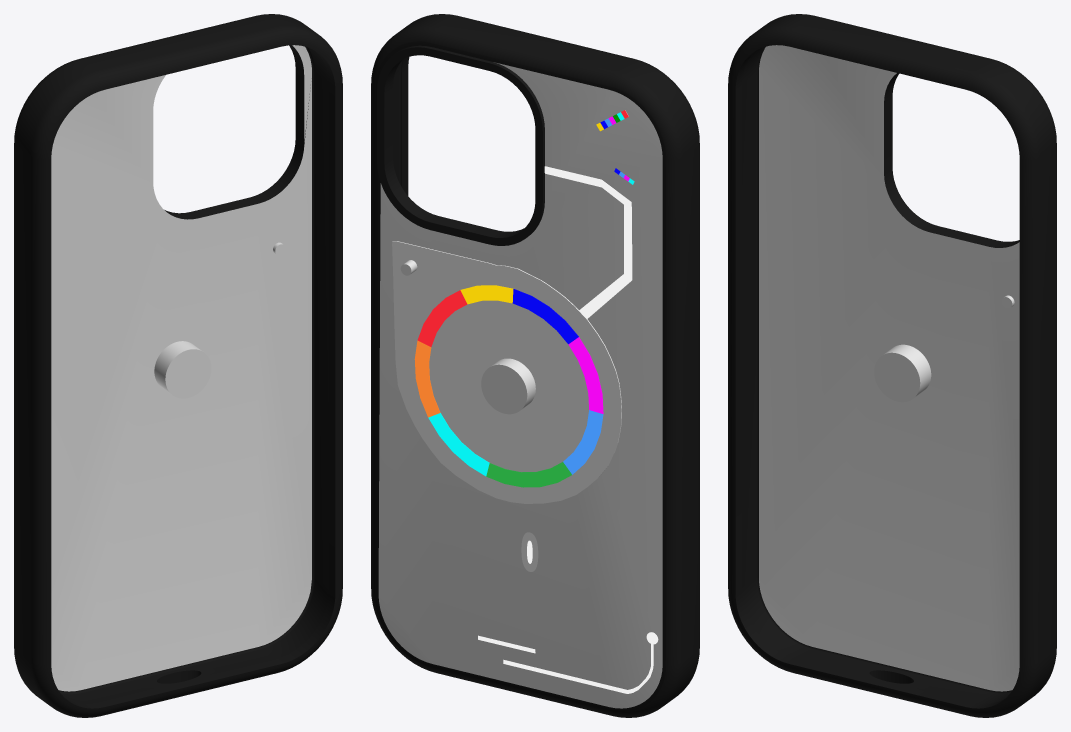
The model's file is bestof216_product.glb.
The picture shows the model from 3 angles, left to right: view 1: azimuth 30°, elevation 25°; view 2: azimuth 150°, elevation 25°; view 3: azimuth 330°, elevation 25°; orthographic projection.
Visible parts, largest first — view 1: Cylinder.004, Cylinder; view 2: Cylinder.004, Cylinder; view 3: Cylinder.004, Cylinder.
Boxes of the visible parts, bbox=[...] form: Cylinder.004: bbox=[14, 14, 342, 717]; Cylinder: bbox=[154, 341, 211, 398]; Cylinder.004: bbox=[371, 14, 699, 717]; Cylinder: bbox=[481, 358, 535, 414]; Cylinder.004: bbox=[728, 14, 1056, 717]; Cylinder: bbox=[874, 344, 931, 402].
Size of the model in its own units: 83.58 by 166 by 18.09.
